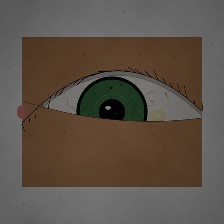pinguecula_lesion: (140, 102, 174, 129)
